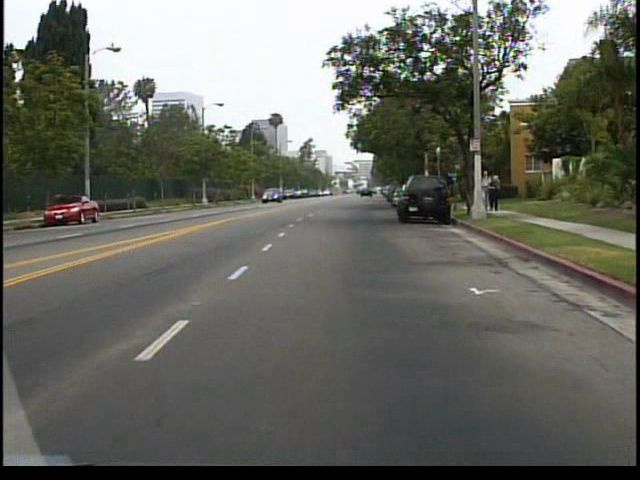person: (484, 173, 502, 215), (479, 167, 490, 212)
